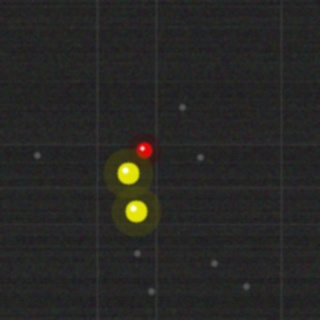red_fault: (134, 140, 154, 160)
yellow_warning: (123, 198, 149, 224), (115, 160, 141, 186)
